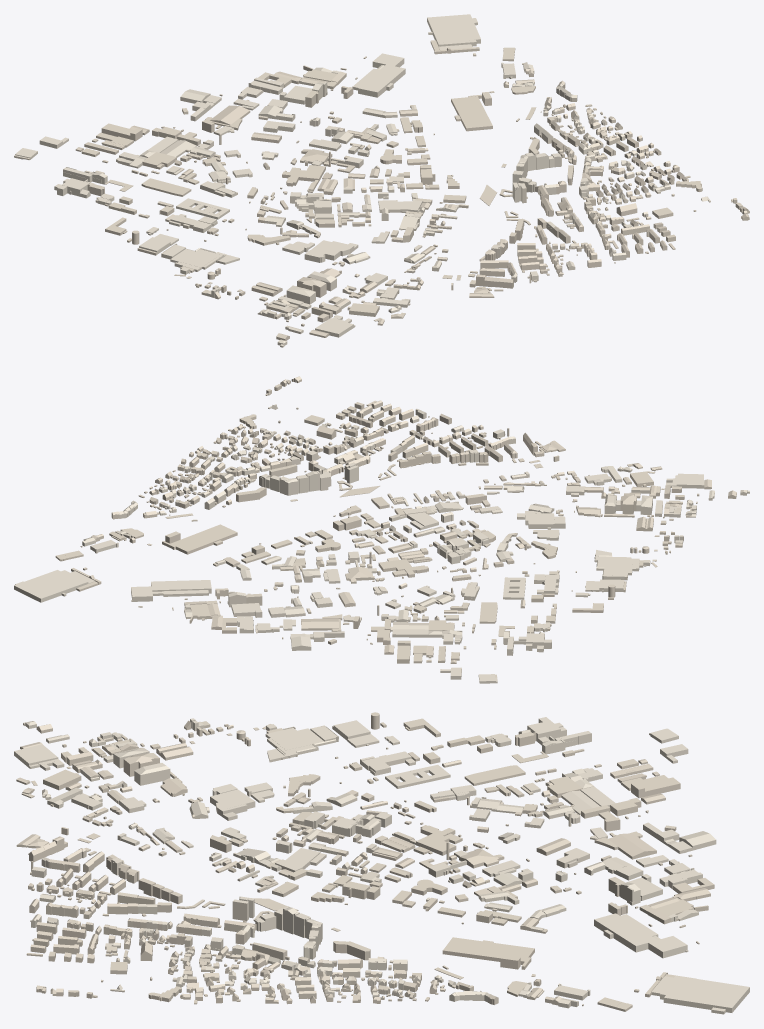
3 views of the same model, one above another, from view 1: azimuth 30°, elevation 25°; view 2: azimuth 150°, elevation 25°; view 3: azimuth 270°, elevation 25° (orthographic). The views are drawn at different scales.
Bounding box in the file's own units: 1261 × 55.14 × 1347.
